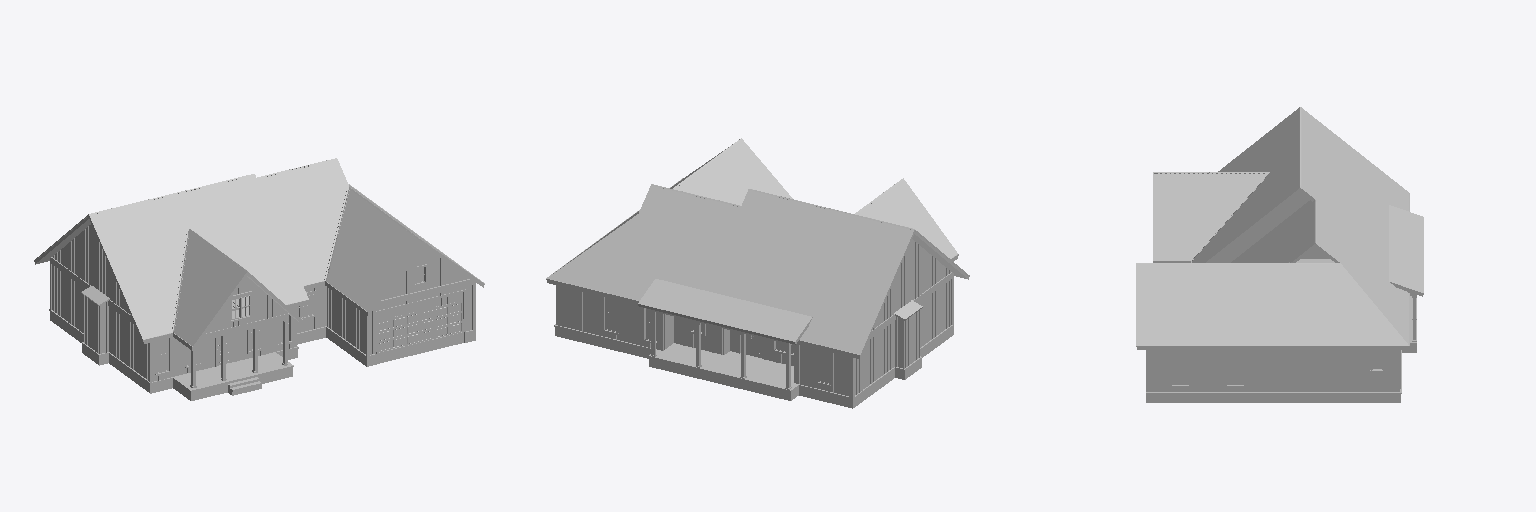
Rendered from House.obj.
3 views of the same model, side by side, from view 1: azimuth 30°, elevation 25°; view 2: azimuth 150°, elevation 25°; view 3: azimuth 270°, elevation 25° (orthographic).
Visible parts, largest first — view 1: US-Home-Roof, US-Home-Main_Walls, US-Home-Main_Foundation, US-Home-Support_Beams, US-Home-Door_Garage, US-Home-Wooden_Struts, US-Home-Roofing_Tiles_Trim; view 2: US-Home-Roof, US-Home-Main_Walls, US-Home-Main_Foundation, US-Home-Wooden_Struts, US-Home-Support_Beams, US-Home-Roofing_Tiles_Trim; view 3: US-Home-Roof, US-Home-Main_Walls, US-Home-Main_Foundation, US-Home-Wooden_Struts, US-Home-Roofing_Tiles_Trim, US-Home-Window_Single_04, US-Home-Window_Single_05.
Part boxes in pixels (bbox=[...]): US-Home-Roof: bbox=[34, 159, 484, 350]; US-Home-Main_Walls: bbox=[52, 224, 471, 381]; US-Home-Main_Foundation: bbox=[49, 309, 475, 400]; US-Home-Support_Beams: bbox=[50, 257, 475, 387]; US-Home-Door_Garage: bbox=[378, 293, 462, 352]; US-Home-Wooden_Struts: bbox=[54, 226, 455, 380]; US-Home-Roofing_Tiles_Trim: bbox=[89, 158, 426, 332]; US-Home-Roof: bbox=[546, 139, 969, 358]; US-Home-Main_Walls: bbox=[556, 239, 950, 396]; US-Home-Main_Foundation: bbox=[554, 324, 953, 408]; US-Home-Wooden_Struts: bbox=[567, 242, 949, 395]; US-Home-Support_Beams: bbox=[651, 272, 953, 397]; US-Home-Roofing_Tiles_Trim: bbox=[651, 138, 913, 229]; US-Home-Roof: bbox=[1136, 107, 1423, 349]; US-Home-Main_Walls: bbox=[1149, 192, 1399, 391]; US-Home-Main_Foundation: bbox=[1146, 296, 1416, 402]; US-Home-Wooden_Struts: bbox=[1152, 195, 1400, 391]; US-Home-Roofing_Tiles_Trim: bbox=[1137, 107, 1337, 263]; US-Home-Window_Single_04: bbox=[1227, 350, 1243, 386]; US-Home-Window_Single_05: bbox=[1172, 350, 1188, 386].
Size of the model in its own units: 19.5 by 8.64 by 15.47.